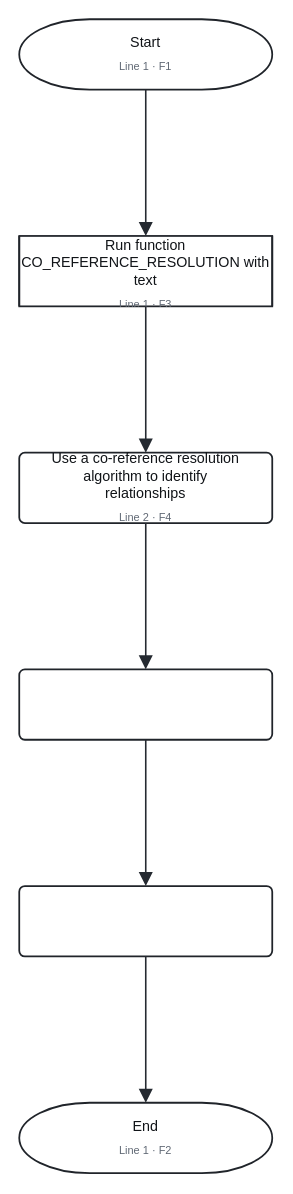
The diagram is 293 pixels wide and 1194 high, and some of its shapes have lost their labels. Each missing label, with the box of its shape:
Return relationships Line 4 · F6: (18, 885, 273, 957)
Set relationships to the result of IDENTIFY_RELATIONSHIPS(text) Line 3 · F5: (18, 668, 273, 740)
